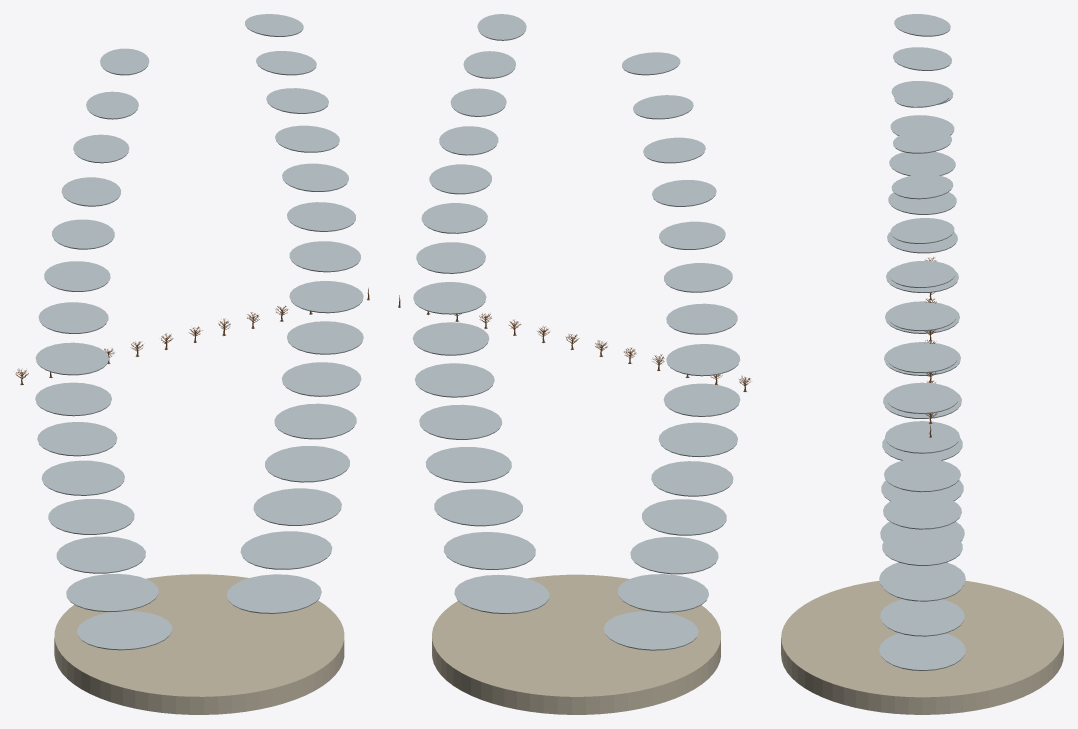
The model's file is Catalog-38.glb.
3 views of the same model, side by side, from view 1: azimuth 30°, elevation 25°; view 2: azimuth 150°, elevation 25°; view 3: azimuth 270°, elevation 25° (orthographic). The views are drawn at different scales.
Parts seen in each view (by area): view 1: Metropolis Silver, Metropolis Stone; view 2: Metropolis Silver, Metropolis Stone; view 3: Metropolis Silver, Metropolis Stone.
Boxes of the visible parts, x1,y1,x2,y2 form: Metropolis Silver: [35, 14, 363, 650]; Metropolis Stone: [54, 574, 344, 714]; Metropolis Silver: [412, 14, 740, 650]; Metropolis Stone: [432, 574, 720, 714]; Metropolis Silver: [879, 14, 965, 670]; Metropolis Stone: [781, 580, 1063, 714].
Bounding box in the file's own units: 245 × 404 × 174.
